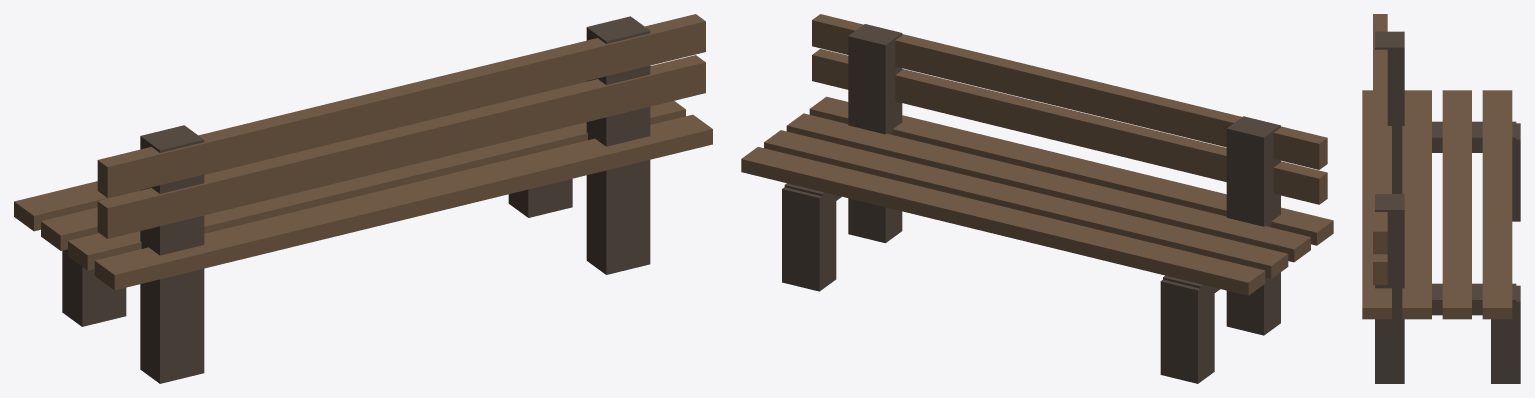
Rendered from wooden-bench.obj.
3 renders of one model, left to right at view 1: azimuth 30°, elevation 25°; view 2: azimuth 150°, elevation 25°; view 3: azimuth 270°, elevation 25°, orthographic. The views are drawn at different scales.
Bounding box in the file's own units: 2.44 × 0.91 × 0.75.
